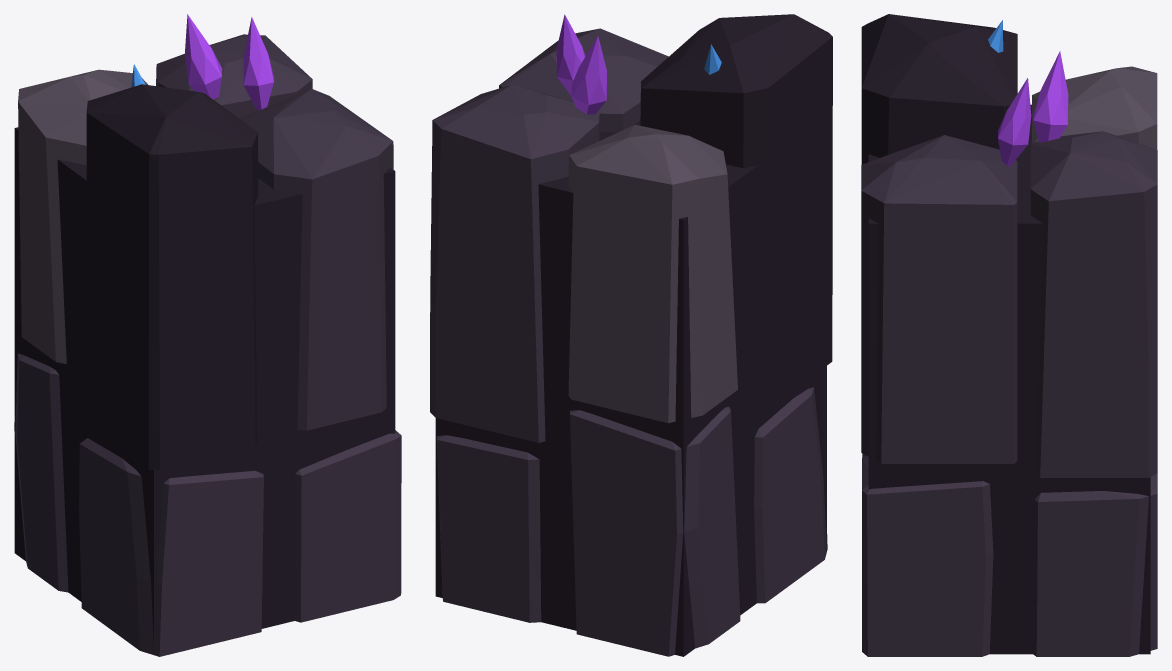
Rendered from RockWall_Tall_Crystal.obj.
The picture shows the model from 3 angles, left to right: view 1: azimuth 30°, elevation 25°; view 2: azimuth 150°, elevation 25°; view 3: azimuth 270°, elevation 25°; orthographic projection. The views are drawn at different scales.
Visible parts, largest first — view 1: RockWall_Tall_Crystal; view 2: RockWall_Tall_Crystal; view 3: RockWall_Tall_Crystal.
Boxes of the visible parts, box(x1,y1,x2,y2) form: RockWall_Tall_Crystal: box(14, 14, 401, 656); RockWall_Tall_Crystal: box(430, 14, 832, 656); RockWall_Tall_Crystal: box(861, 14, 1157, 656).
Size of the model in its own units: 0.9991 by 2.03 by 0.9983.
